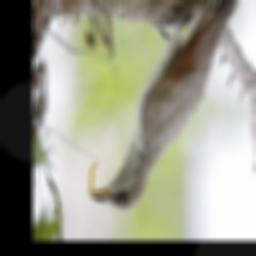Cuckoo: (90, 0, 240, 210)
